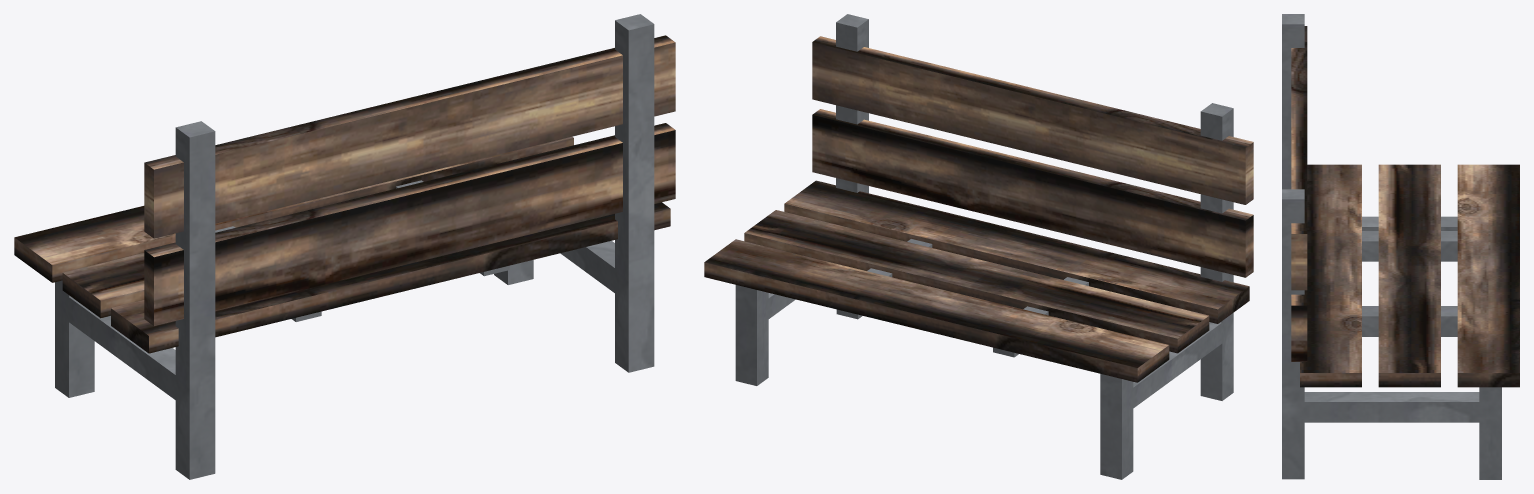
File: Banc_1.glb
3 renders of one model, left to right at view 1: azimuth 30°, elevation 25°; view 2: azimuth 150°, elevation 25°; view 3: azimuth 270°, elevation 25°, orthographic. The views are drawn at different scales.
Parts seen in each view (by area): view 1: mergedBlocks(Clone); view 2: mergedBlocks(Clone); view 3: mergedBlocks(Clone).
Part boxes in pixels (box(x1,y1,x2,y2)): mergedBlocks(Clone): box(14, 14, 675, 479); mergedBlocks(Clone): box(704, 14, 1253, 479); mergedBlocks(Clone): box(1282, 14, 1519, 479).
Bounding box in the file's own units: 0.499 × 0.3189 × 0.241.
2 materials, 2 textured.
